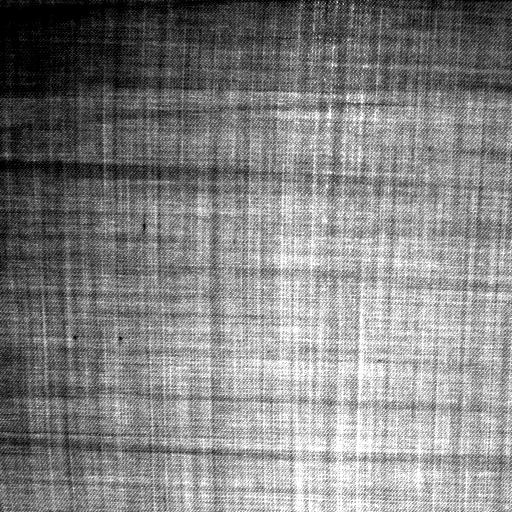fabric_thick_weft: (67, 330, 135, 346)
